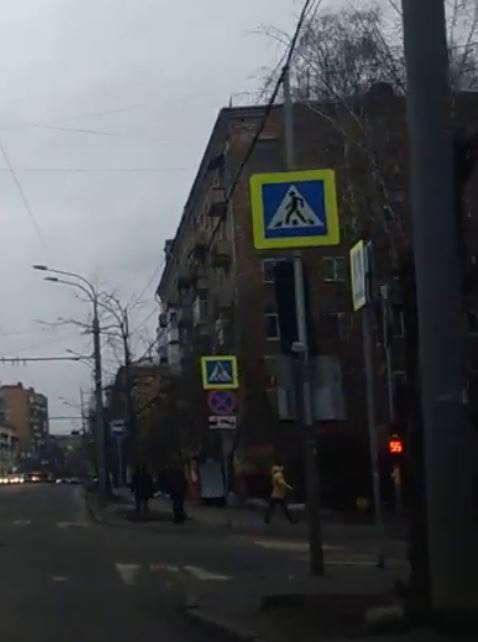Yaya Gecidi: (260, 181, 333, 239)
